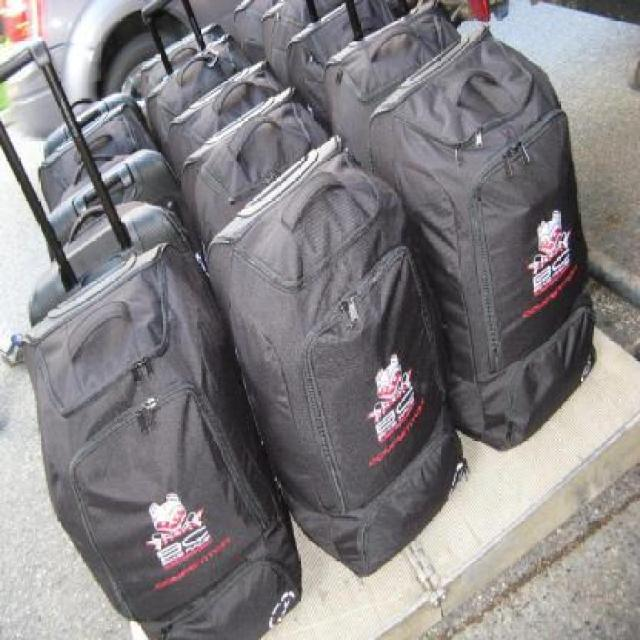backpack: (200, 131, 472, 586), (17, 232, 309, 640), (365, 20, 603, 455), (25, 183, 200, 325), (178, 81, 331, 242), (321, 0, 464, 152), (42, 140, 180, 252), (286, 0, 395, 118)
